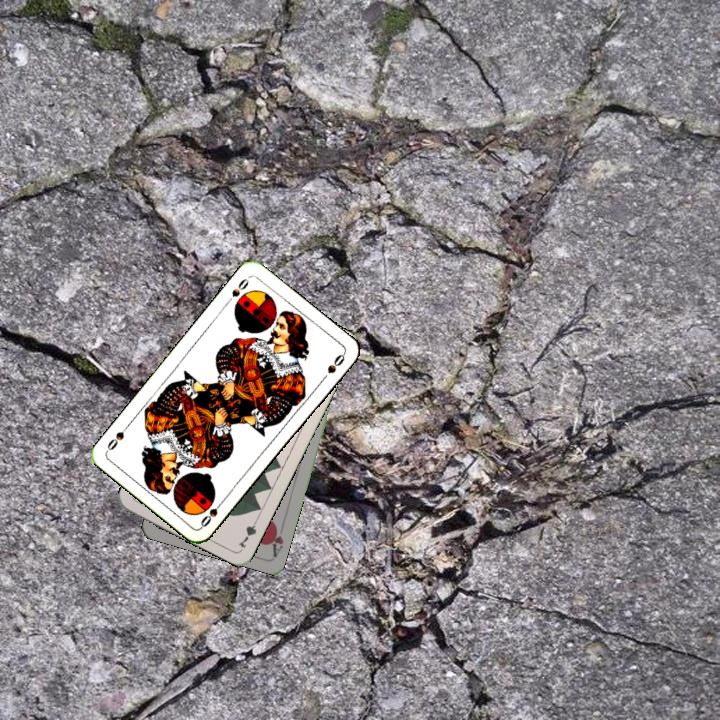G7: (234, 513, 261, 551)
HA: (266, 519, 287, 559)
SO: (196, 496, 227, 530), (222, 273, 252, 307)
